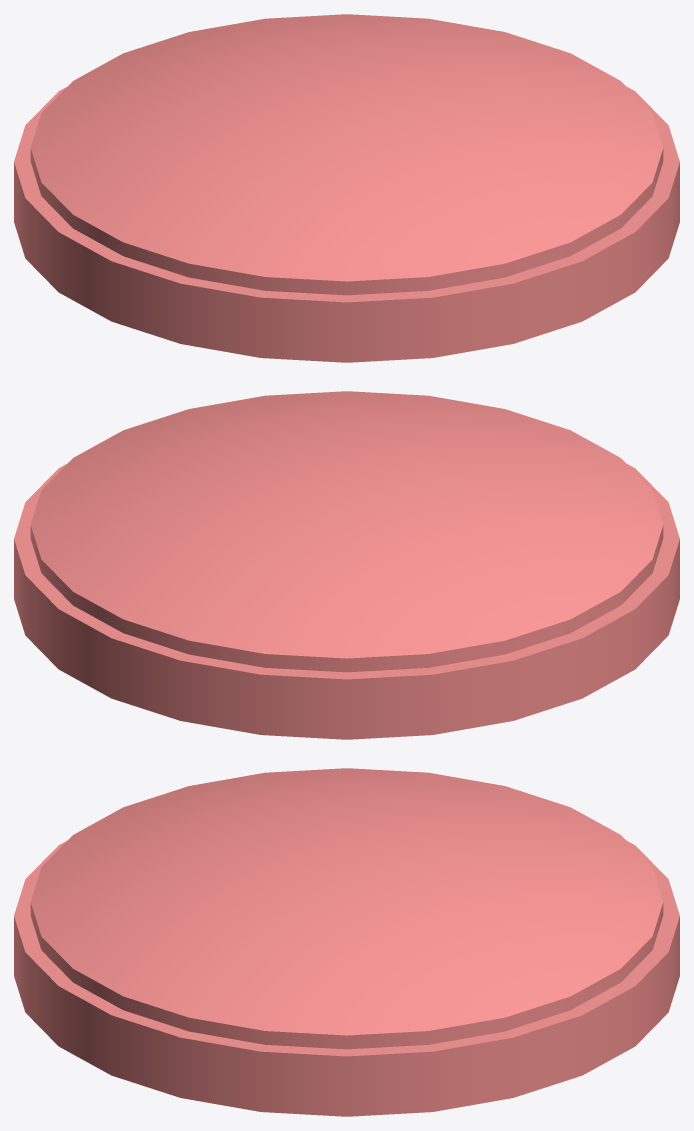
File: Light_DengPian6_2X2_off.FBX
The picture shows the model from 3 angles, top to bottom: view 1: azimuth 30°, elevation 25°; view 2: azimuth 150°, elevation 25°; view 3: azimuth 270°, elevation 25°; orthographic projection.
Parts seen in each view (by area): view 1: Box002; view 2: Box002; view 3: Box002.
Boxes of the visible parts, x1,y1,x2,y2 form: Box002: [14, 14, 679, 362]; Box002: [14, 391, 679, 739]; Box002: [14, 768, 679, 1116].
Size of the model in its own units: 2 by 0.396 by 2.
